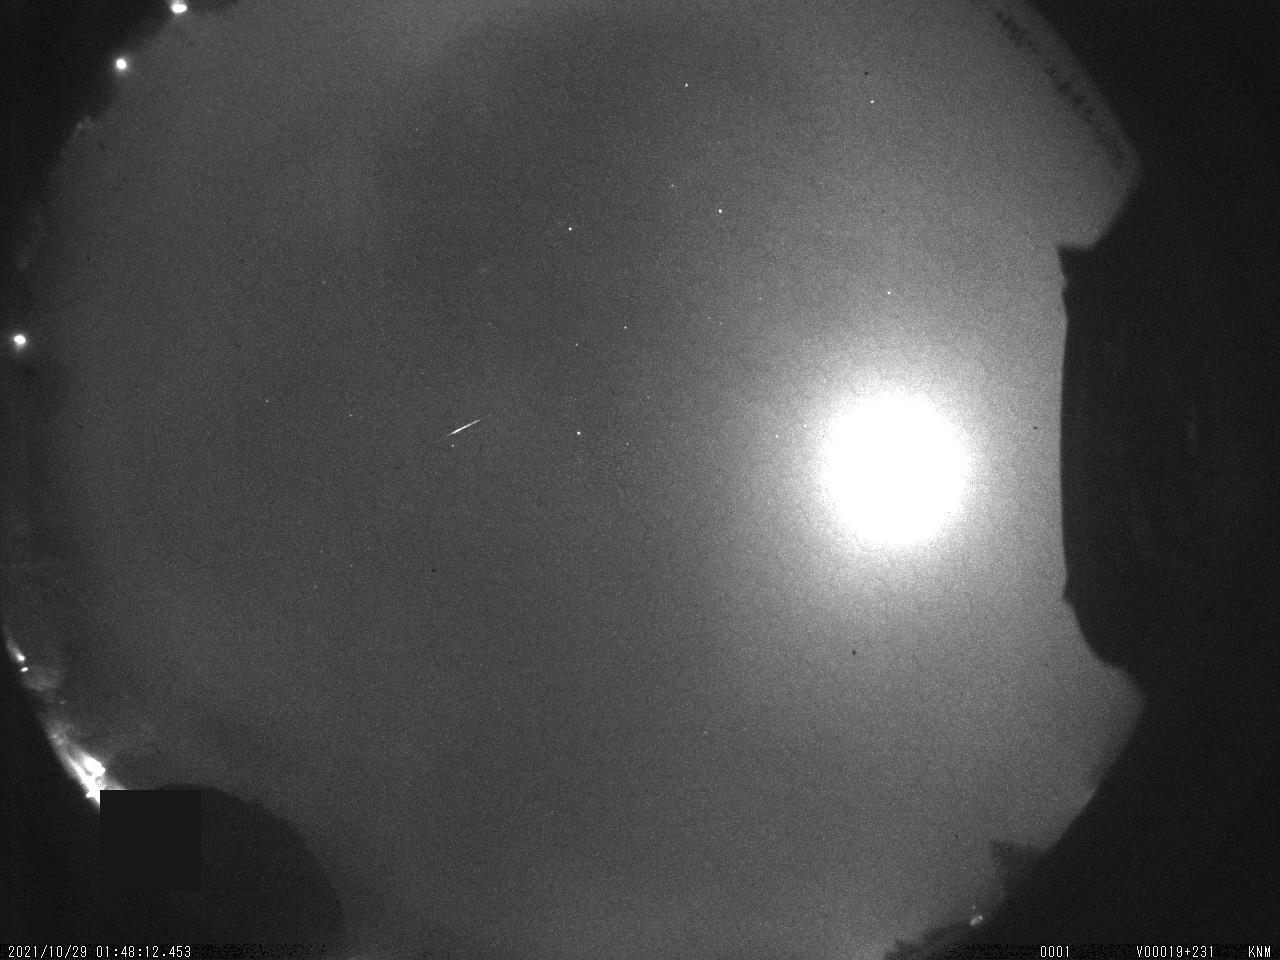Meteor: (440, 408, 492, 445)
